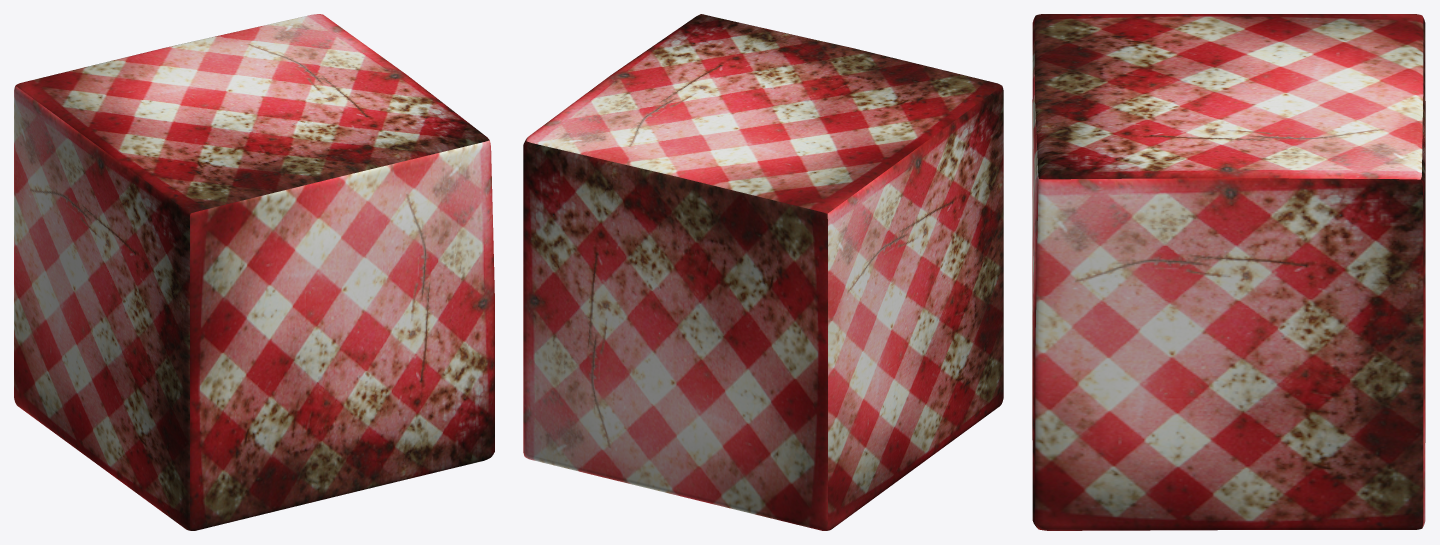
3 renders of one model, left to right at view 1: azimuth 30°, elevation 25°; view 2: azimuth 150°, elevation 25°; view 3: azimuth 270°, elevation 25°, orthographic. The views are drawn at different scales.
Bounding box in the file's own units: 1.02 × 1.02 × 1.02.
